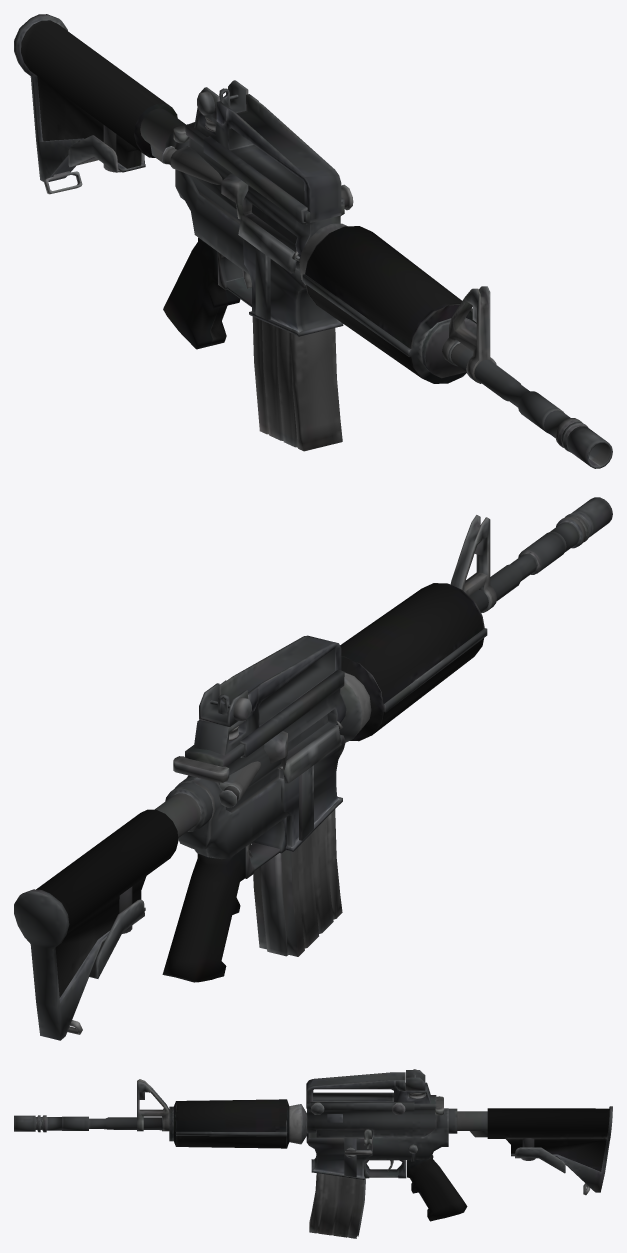
Rendered from w_smg.glb.
The picture shows the model from 3 angles, top to bottom: view 1: azimuth 30°, elevation 25°; view 2: azimuth 150°, elevation 25°; view 3: azimuth 270°, elevation 25°; orthographic projection. The views are drawn at different scales.
Parts seen in each view (by area): view 1: tzevyo_low, priklad_low.001, mag_low, derjat_low, ruchka_low, details_low, okolmag_low, corpuse_low, undercorp_low, pritzel_low, okoloruchk_low; view 2: priklad_low.001, tzevyo_low, mag_low, ruchka_low, derjat_low, undercorp_low, details_low, corpuse_low, okolmag_low, pritzel_low, okoloruchk_low, zatvor_low; view 3: tzevyo_low, priklad_low.001, corpuse_low, derjat_low, mag_low, ruchka_low, okolmag_low, undercorp_low, okoloruchk_low, details_low, pritzel_low.
Boxes of the visible parts, box(x1,y1,x2,y2) form: tzevyo_low: box(299, 223, 612, 468); priklad_low.001: box(14, 14, 185, 181); mag_low: box(252, 316, 342, 451); derjat_low: box(194, 80, 341, 222); ruchka_low: box(163, 237, 251, 349); details_low: box(44, 88, 353, 273); okolmag_low: box(243, 239, 343, 336); corpuse_low: box(185, 122, 344, 268); undercorp_low: box(174, 141, 249, 274); pritzel_low: box(442, 286, 496, 383); okoloruchk_low: box(203, 136, 344, 224); priklad_low.001: box(14, 783, 212, 1040); tzevyo_low: box(339, 497, 612, 742); mag_low: box(253, 809, 342, 956); ruchka_low: box(162, 817, 286, 982); derjat_low: box(193, 635, 341, 755); undercorp_low: box(174, 776, 288, 859); details_low: box(67, 694, 343, 1034); corpuse_low: box(185, 689, 346, 812); okolmag_low: box(279, 734, 345, 851); pritzel_low: box(450, 515, 496, 612); okoloruchk_low: box(240, 669, 344, 757); zatvor_low: box(173, 756, 229, 782); tzevyo_low: box(14, 1099, 306, 1148); priklad_low.001: box(448, 1106, 612, 1192); corpuse_low: box(307, 1095, 436, 1137); derjat_low: box(306, 1070, 430, 1108); mag_low: box(309, 1173, 366, 1238); ruchka_low: box(364, 1155, 467, 1221); okolmag_low: box(306, 1133, 372, 1179); undercorp_low: box(365, 1108, 448, 1159); okoloruchk_low: box(309, 1092, 414, 1111); details_low: box(310, 1069, 590, 1195); pritzel_low: box(137, 1079, 169, 1131).
Bounding box in the file's own units: 0.3798 × 1.3 × 4.41.
1 material, 1 textured.
